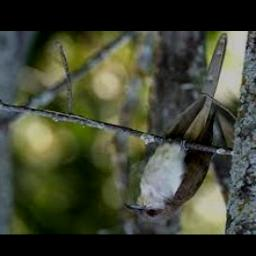Cuckoo: (123, 33, 227, 223)
